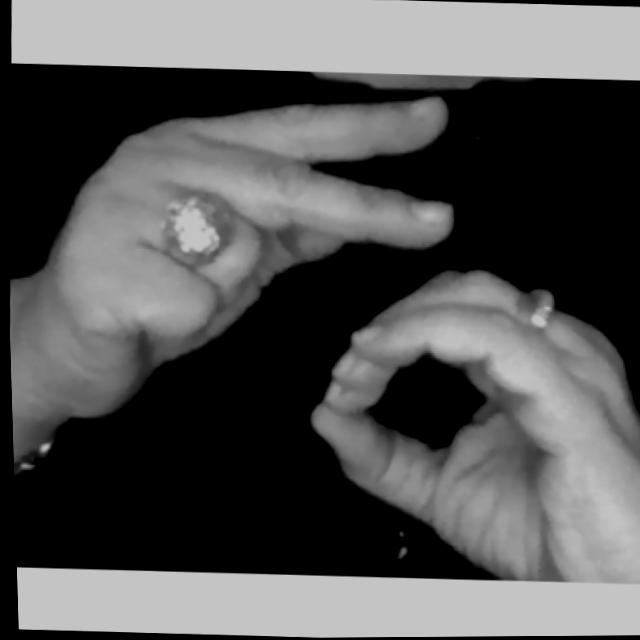O--: (2, 74, 640, 590)
